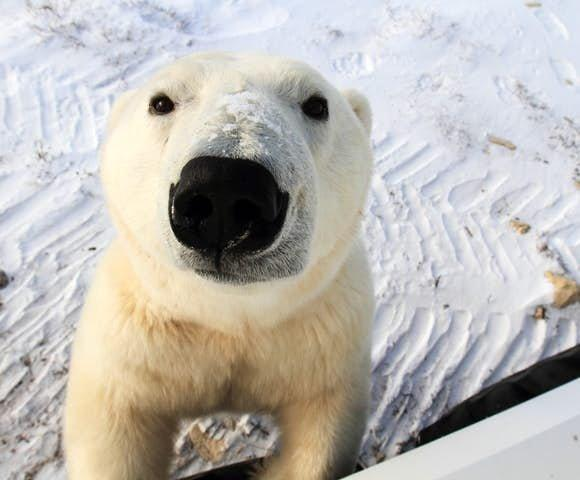bear: (67, 51, 375, 480)
